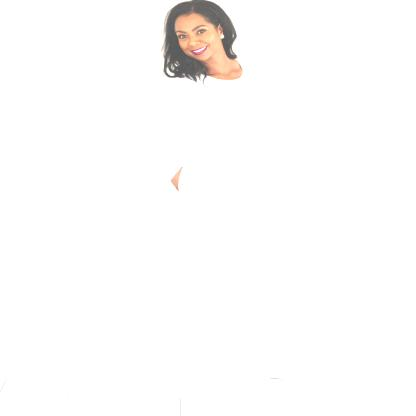dress: (151, 152, 290, 396), (126, 59, 275, 181)
